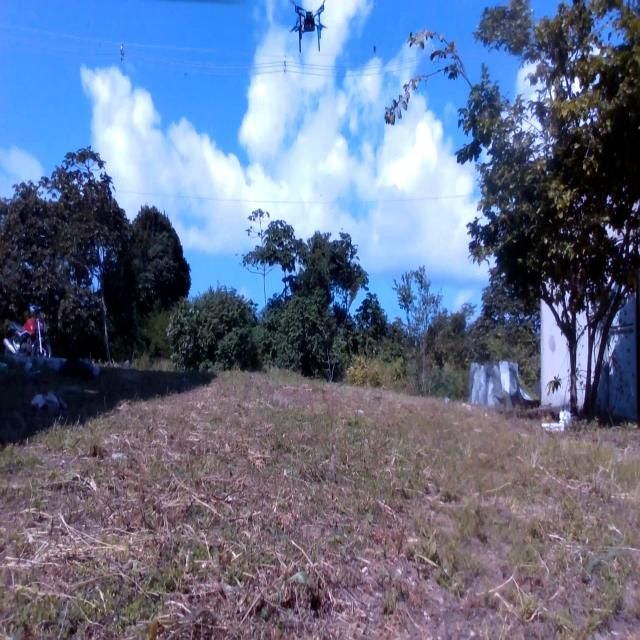-uav-: (283, 1, 335, 55)
